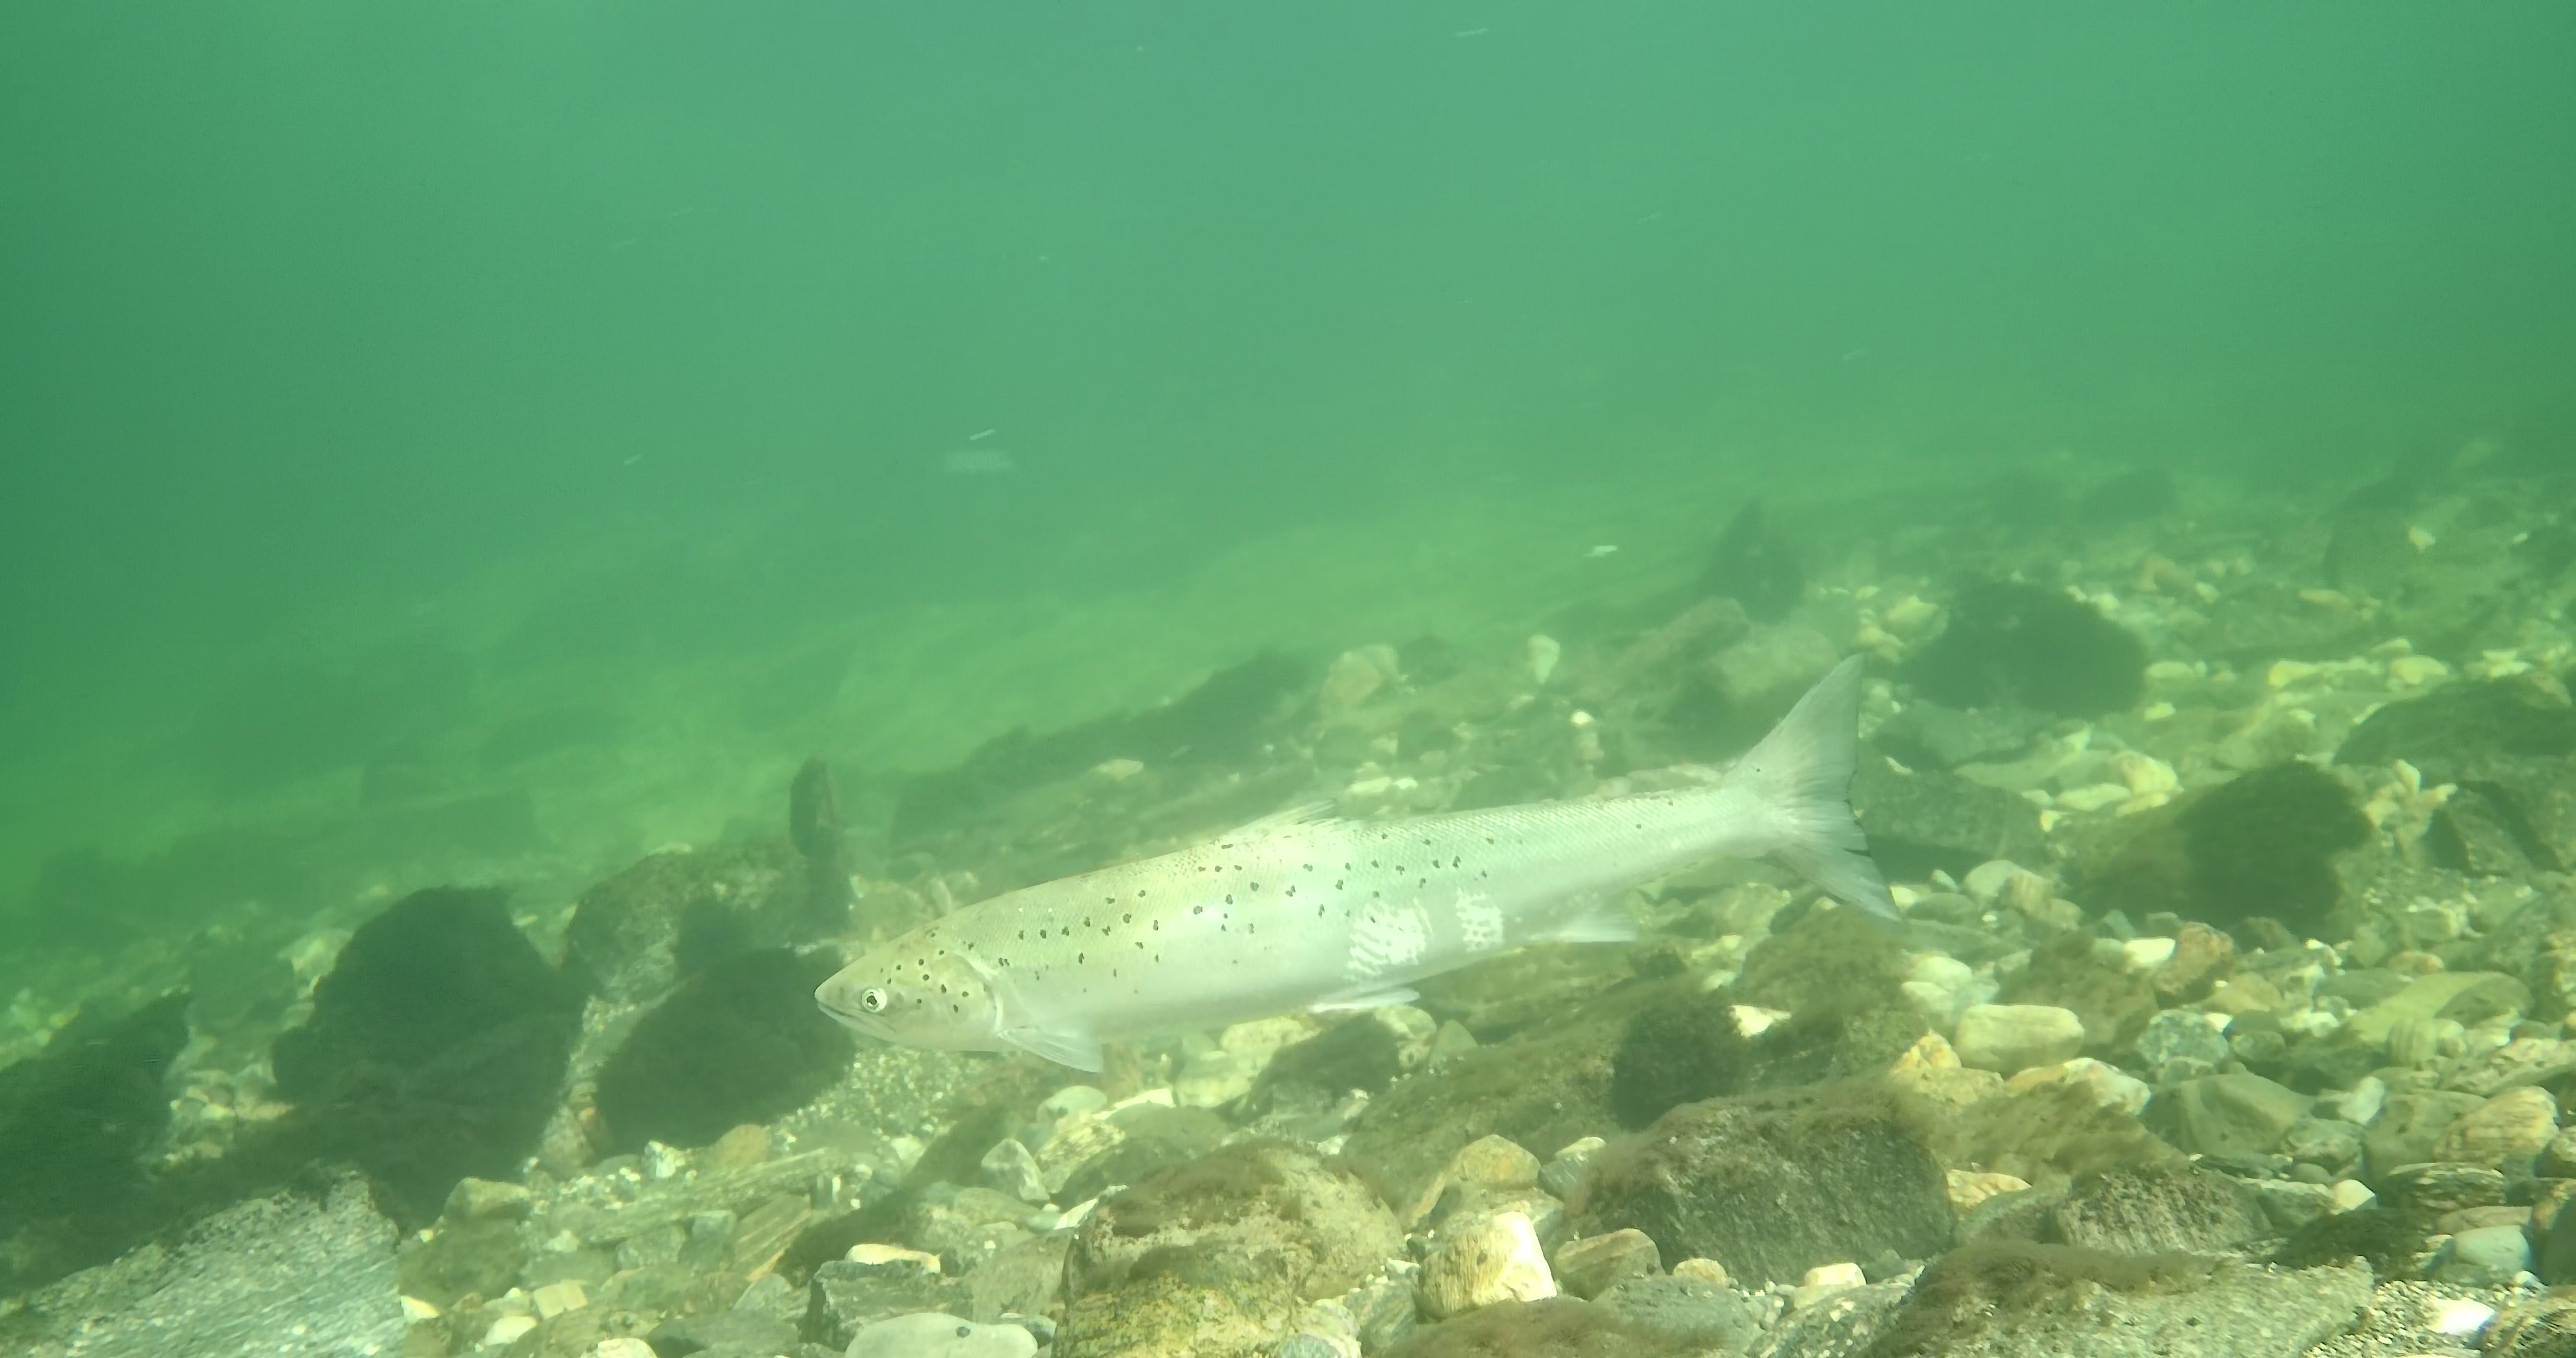salmon: (811, 651, 1908, 1075)
